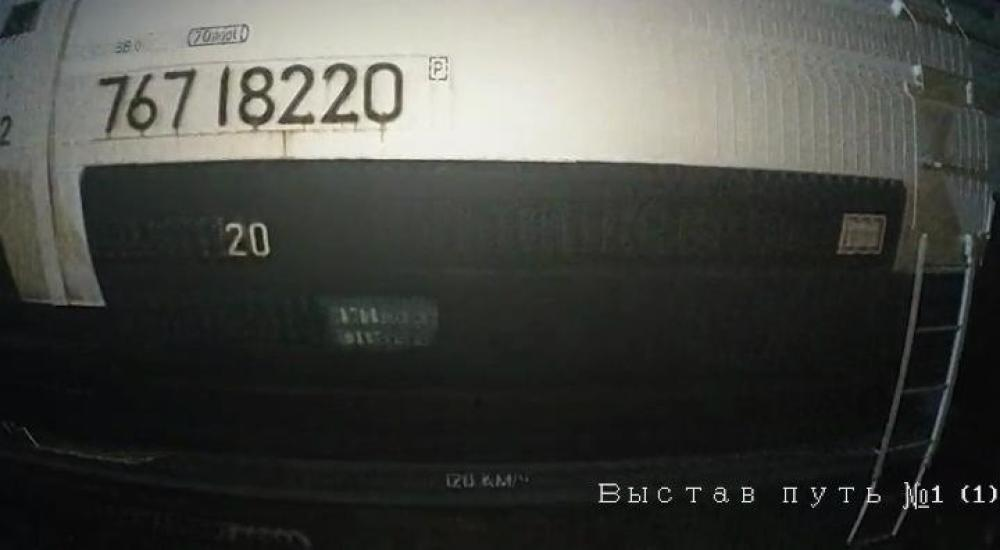Wagon-number: (92, 54, 409, 138)
